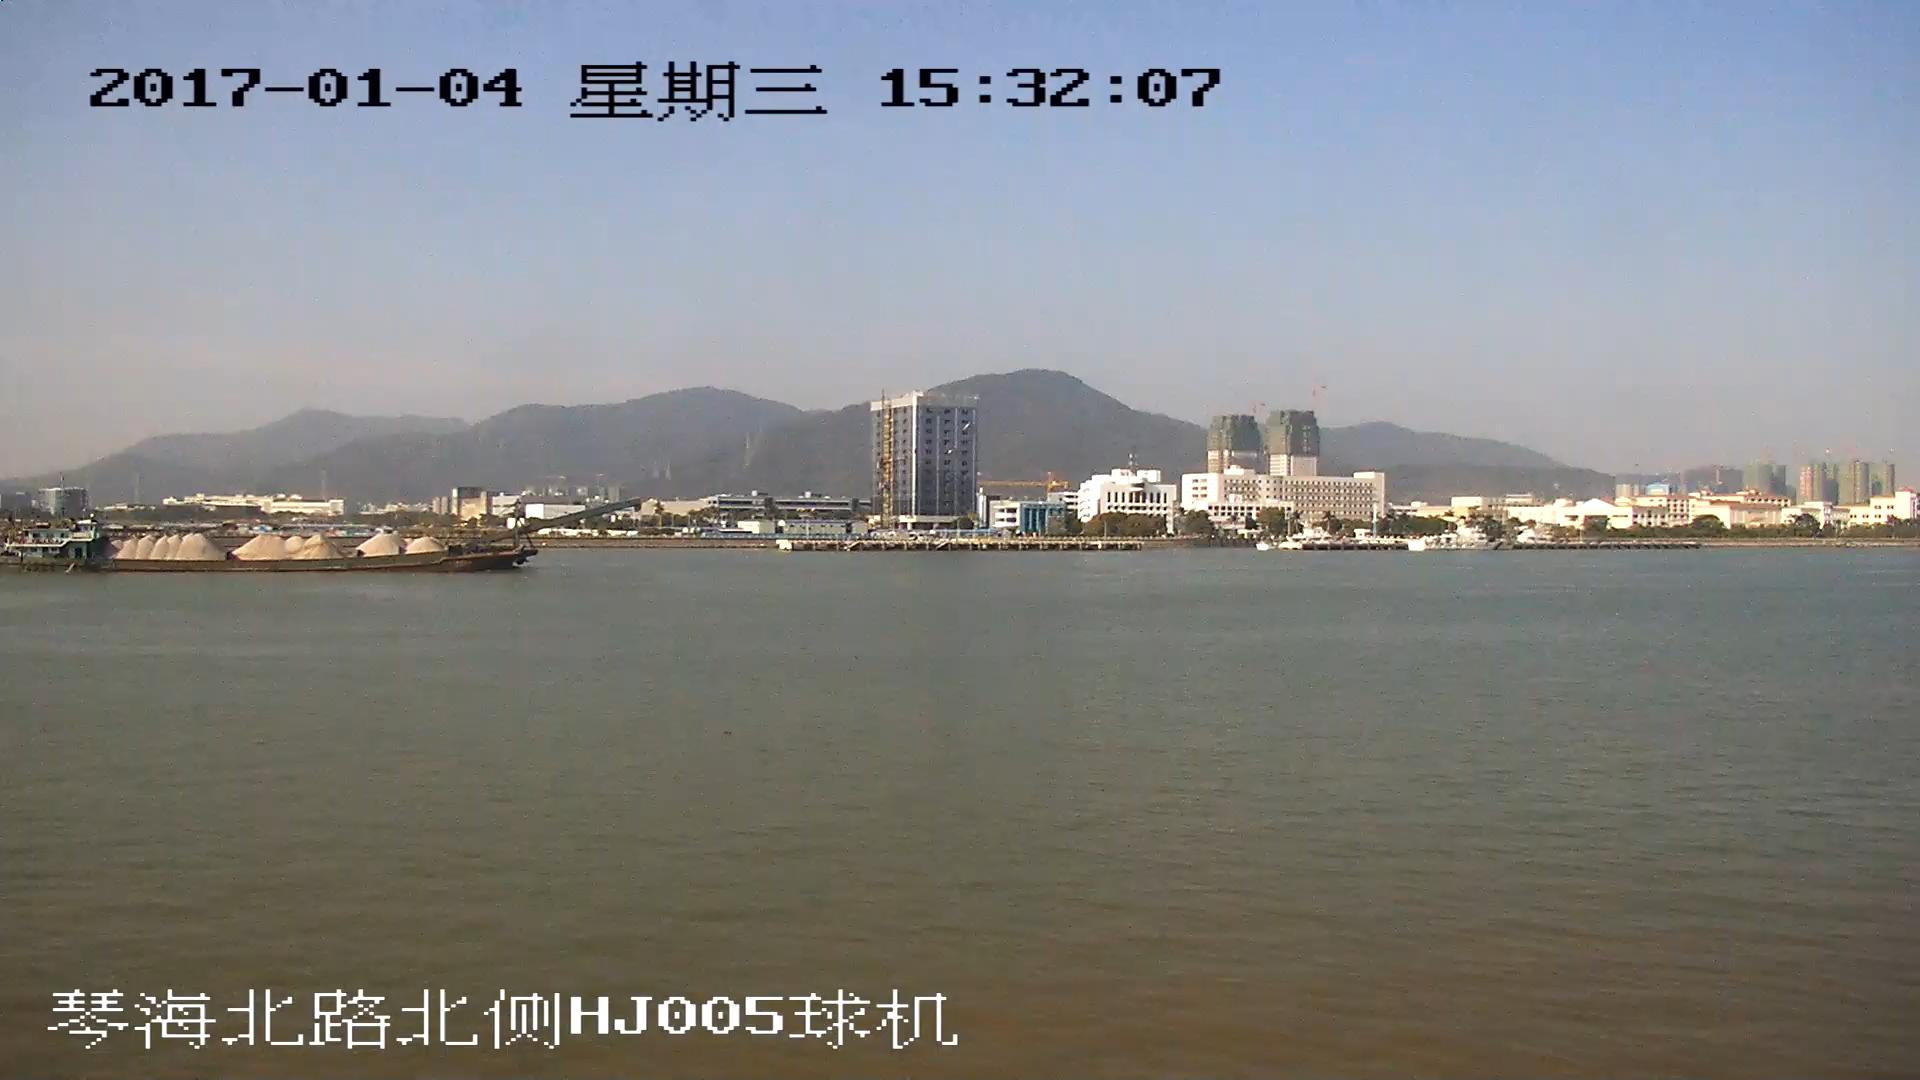ore carrier: (11, 500, 634, 572)
